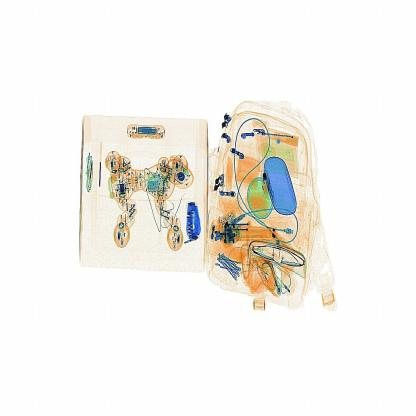scissors: (186, 200, 203, 247)
